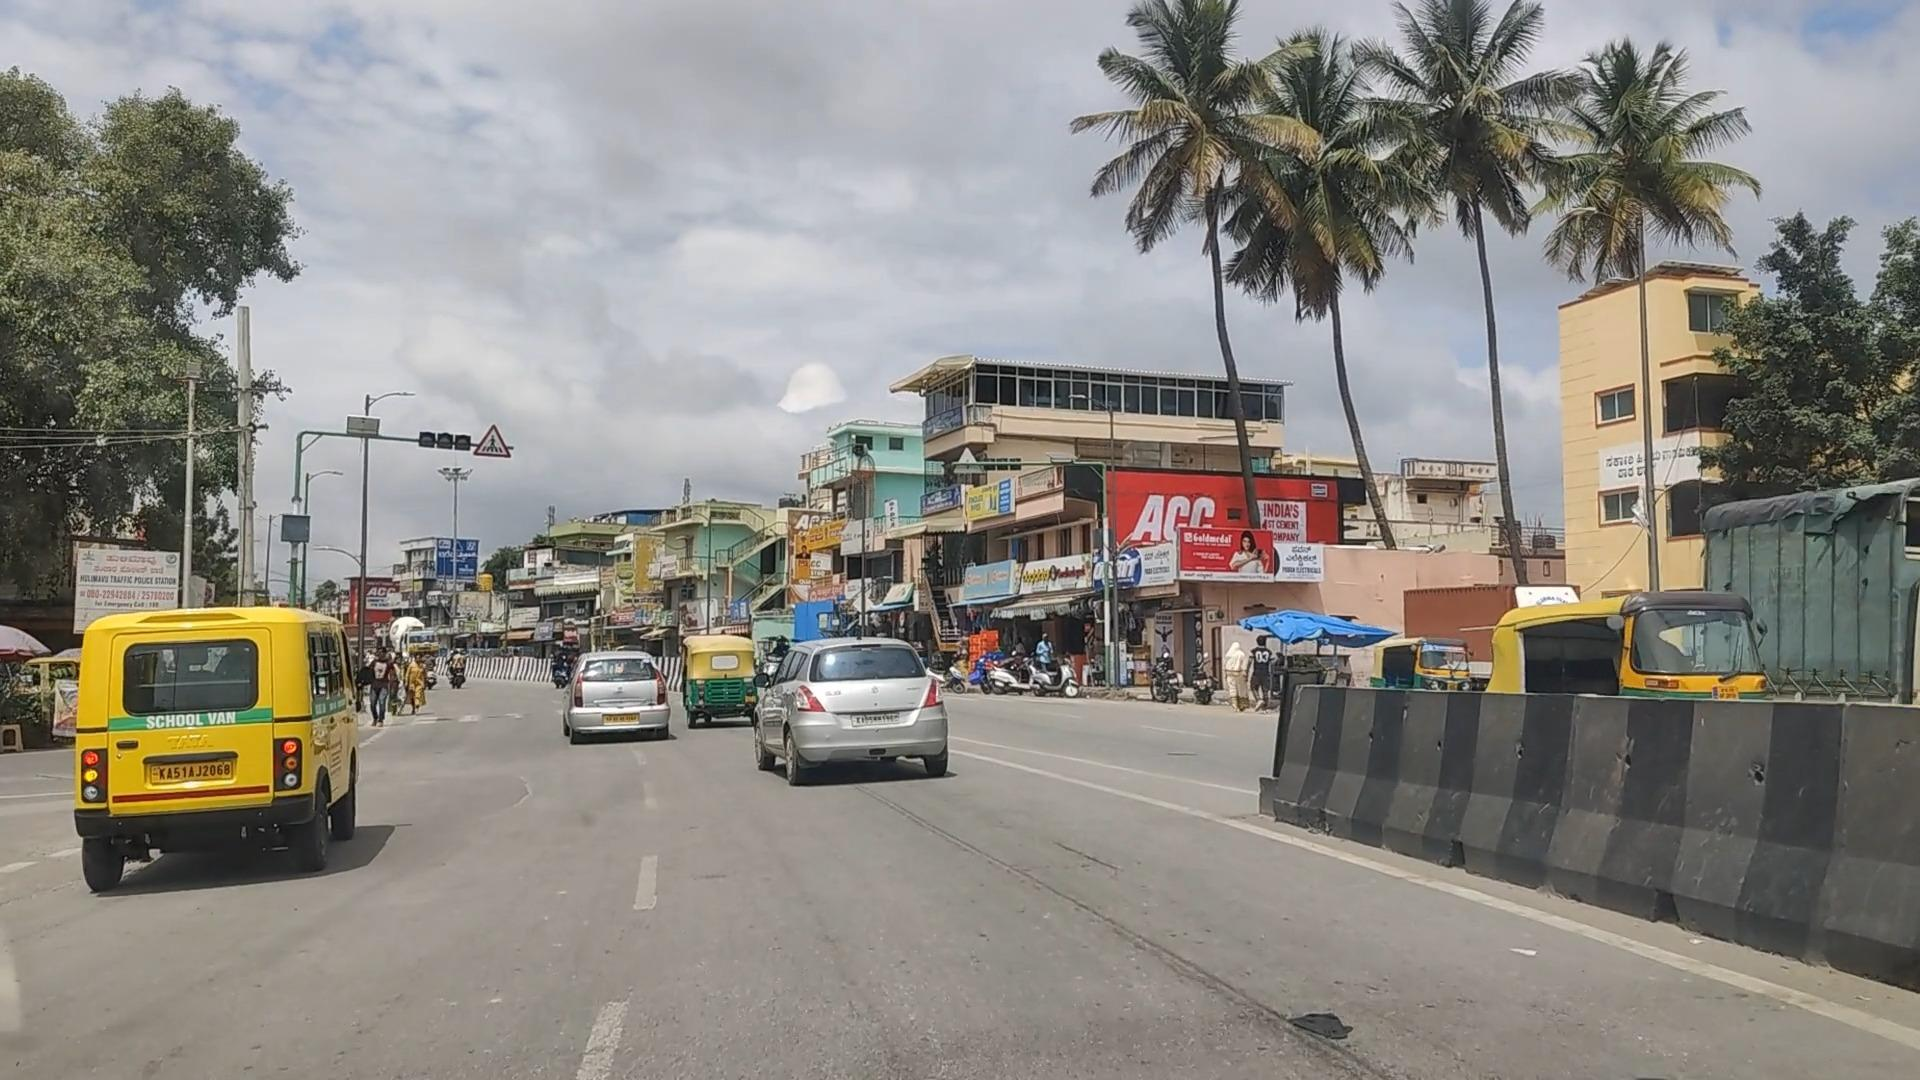LMV: (58, 567, 393, 903), (771, 591, 961, 804), (562, 603, 709, 770), (667, 608, 773, 740)
